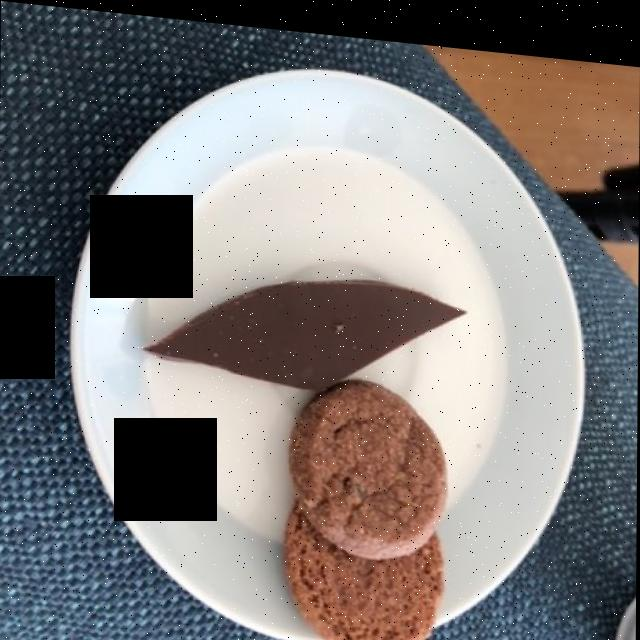chocolate: (161, 278, 459, 390)
chocolate-cookies: (293, 376, 445, 640)
